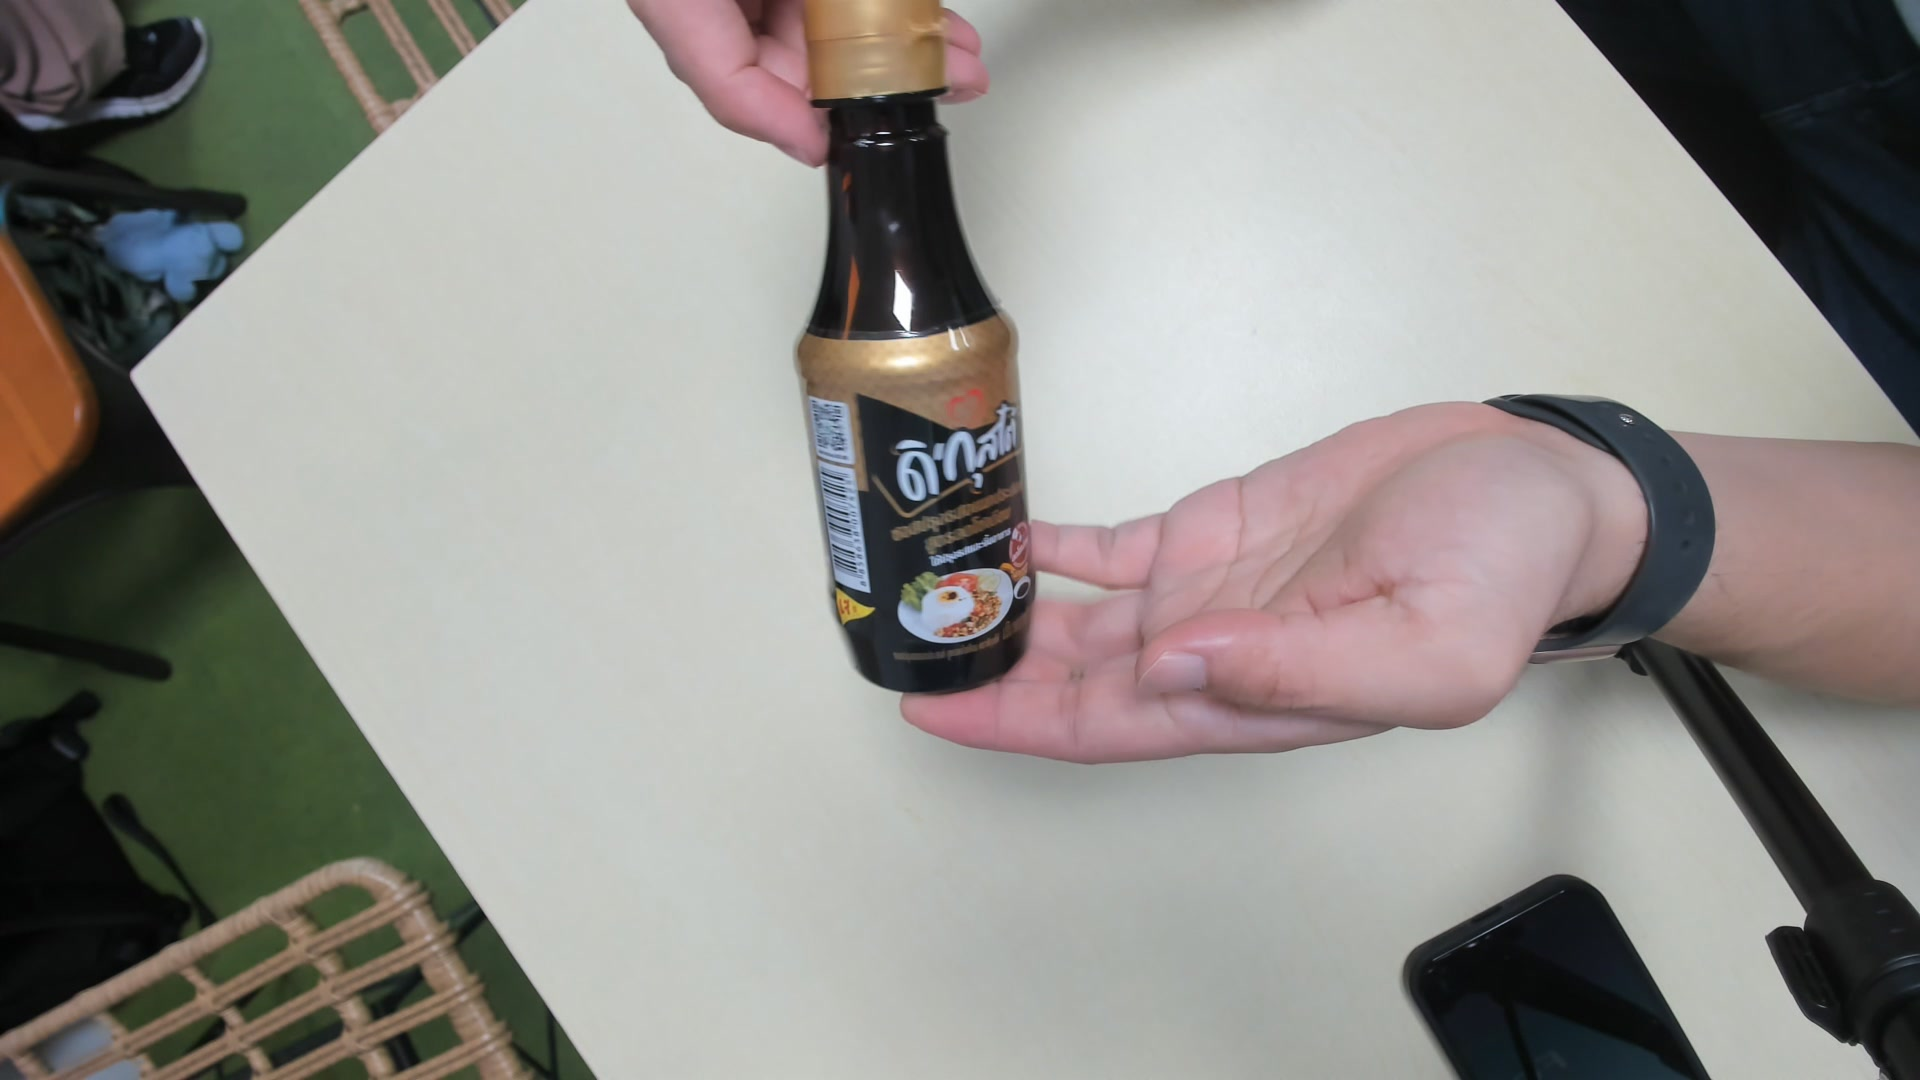OtherSauceDressing_200-299g_NonHalal_NonHealthy: (793, 5, 1044, 702)
